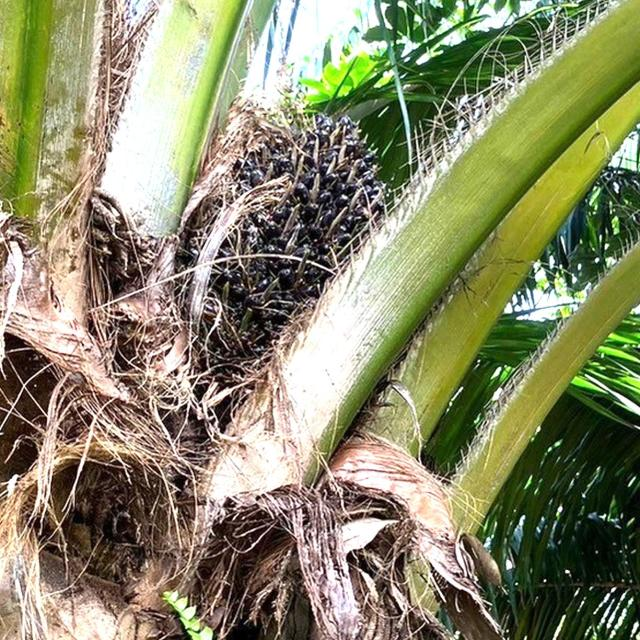unripe: (222, 118, 384, 367)
